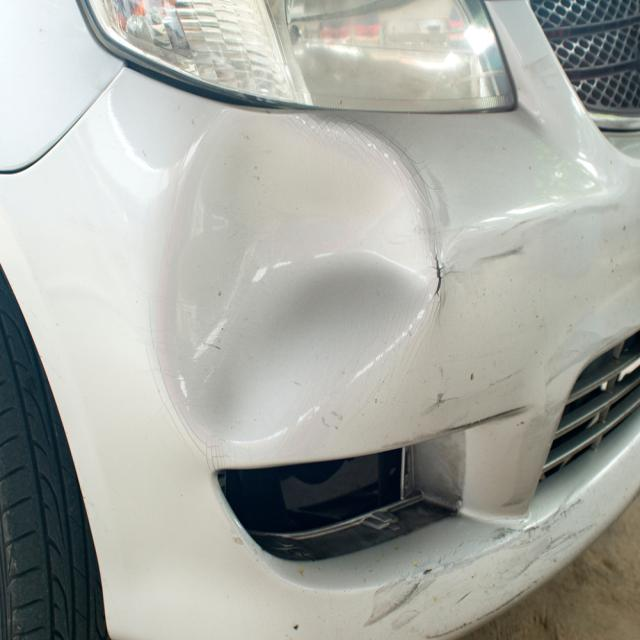dent: (157, 114, 434, 444)
scratch: (364, 495, 598, 633)
